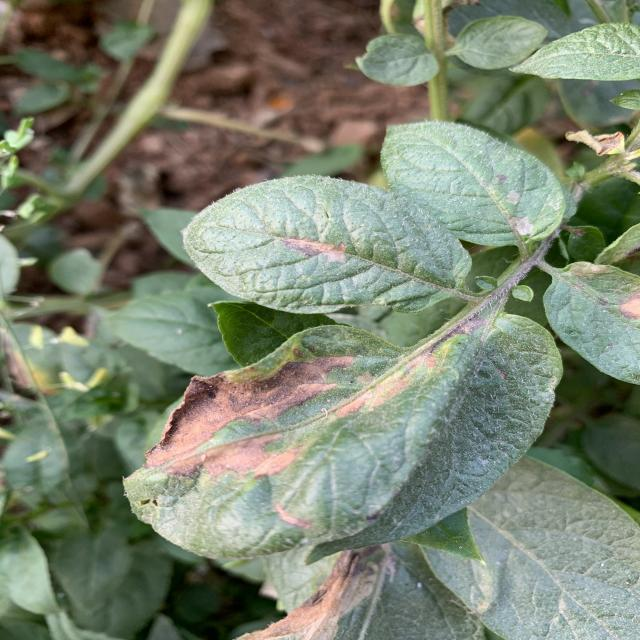lateblight: (147, 356, 352, 476), (237, 548, 387, 640), (282, 238, 347, 262)
